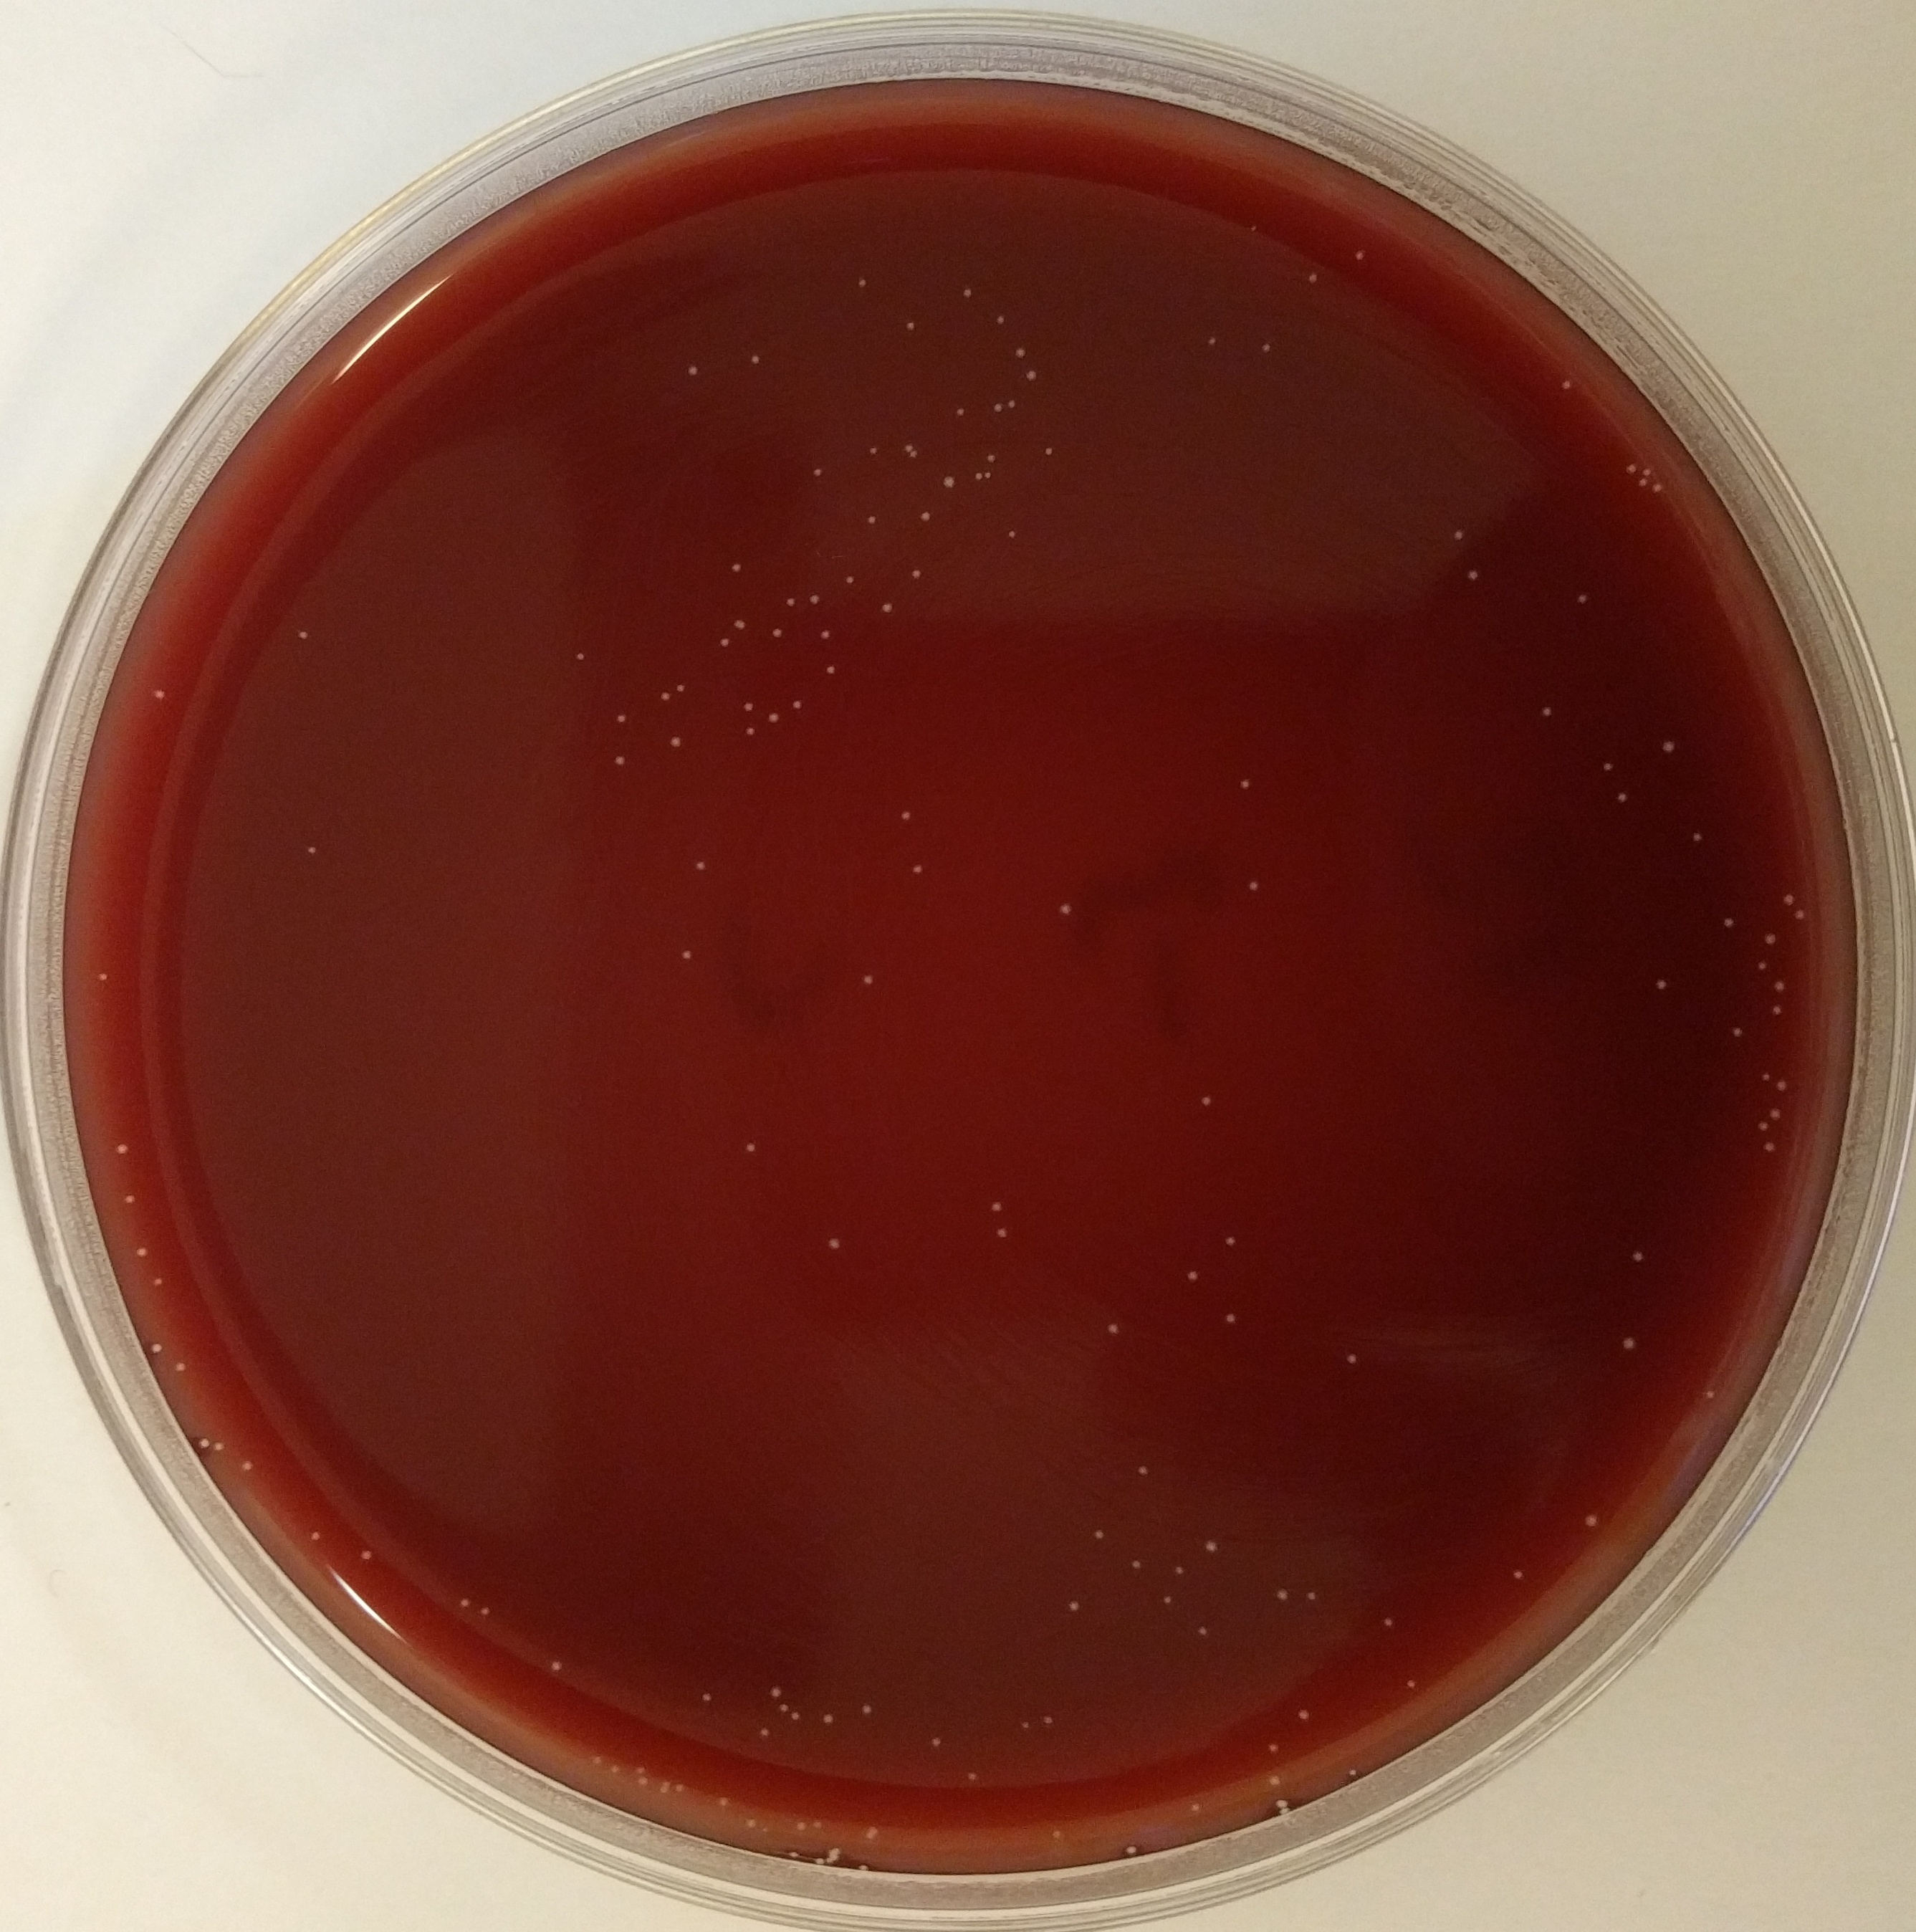sp09: (765, 709, 783, 726), (1021, 369, 1040, 384), (304, 842, 321, 858), (840, 572, 860, 586), (684, 361, 700, 377), (1305, 270, 1321, 286), (770, 626, 786, 642), (818, 628, 833, 644), (547, 1658, 563, 1674), (151, 688, 167, 704), (133, 1244, 149, 1260), (826, 1235, 842, 1251), (1774, 1077, 1790, 1093), (807, 591, 821, 609), (1762, 932, 1779, 946), (1700, 1388, 1718, 1402), (1123, 1843, 1140, 1857), (1772, 977, 1786, 995), (728, 562, 744, 576), (881, 600, 895, 616), (668, 735, 684, 749), (742, 725, 758, 739), (898, 807, 912, 823), (1791, 909, 1807, 923), (1621, 1337, 1637, 1351), (1202, 1539, 1218, 1553), (860, 1702, 876, 1716), (360, 1548, 375, 1562), (149, 1274, 163, 1290), (309, 1528, 323, 1544), (691, 858, 707, 872), (1058, 904, 1074, 918), (993, 312, 1009, 326), (93, 970, 111, 983), (114, 1142, 132, 1155), (865, 1827, 879, 1841), (633, 1764, 647, 1778), (591, 1751, 605, 1765), (854, 275, 869, 290), (1040, 446, 1055, 460), (942, 476, 956, 490), (911, 569, 925, 583), (1558, 379, 1572, 393), (1541, 705, 1555, 719), (1239, 777, 1253, 791), (823, 663, 837, 677), (756, 1725, 770, 1739), (123, 1191, 137, 1206), (744, 1141, 758, 1155), (990, 1200, 1004, 1214), (679, 948, 693, 962), (811, 465, 823, 481), (1467, 569, 1483, 581), (676, 681, 688, 697), (656, 691, 672, 704), (614, 712, 630, 725), (1583, 1514, 1598, 1527), (149, 1341, 161, 1356), (993, 1228, 1009, 1241), (1105, 1323, 1121, 1335), (1246, 879, 1262, 891), (860, 974, 876, 986), (1276, 1807, 1293, 1818), (1649, 481, 1663, 493), (744, 1818, 758, 1830), (635, 1776, 649, 1788), (1204, 335, 1218, 347), (1353, 247, 1365, 261), (1012, 346, 1026, 358), (867, 444, 879, 458), (865, 514, 879, 526), (1451, 528, 1465, 540), (1576, 591, 1590, 604), (784, 595, 798, 607), (735, 618, 747, 632), (612, 755, 626, 767), (742, 700, 754, 714), (791, 698, 804, 712), (1732, 1025, 1744, 1039), (1662, 741, 1676, 753), (1511, 1569, 1525, 1581), (1297, 1707, 1311, 1720), (1267, 1742, 1281, 1755), (1174, 1563, 1186, 1578), (1067, 1600, 1081, 1613), (821, 1713, 835, 1725), (700, 1690, 712, 1704), (460, 1597, 474, 1609), (240, 1462, 254, 1474), (198, 1435, 211, 1449), (1186, 1269, 1198, 1283), (911, 863, 923, 877), (718, 635, 730, 649), (1270, 1799, 1290, 1807), (1256, 342, 1272, 353), (1655, 979, 1670, 990), (1598, 762, 1614, 772), (769, 1686, 784, 1697), (477, 1606, 493, 1616), (172, 1362, 188, 1372), (1642, 465, 1655, 477), (812, 1820, 825, 1832), (718, 1795, 730, 1807), (609, 1764, 621, 1776), (962, 286, 974, 298), (749, 353, 761, 365), (1248, 223, 1260, 235), (1625, 462, 1637, 474), (1691, 832, 1704, 844), (1383, 1616, 1395, 1628), (1305, 1590, 1318, 1602), (1277, 1590, 1290, 1602), (1137, 1465, 1149, 1478), (1190, 1802, 1202, 1814), (790, 1711, 802, 1723), (1225, 1235, 1237, 1248), (1200, 1095, 1212, 1107), (776, 1704, 788, 1716), (991, 402, 1004, 414), (1769, 1107, 1781, 1120), (1269, 1776, 1283, 1786), (795, 1820, 805, 1834), (674, 1781, 684, 1795), (661, 1779, 672, 1793), (953, 407, 967, 418), (1756, 1121, 1770, 1132), (1758, 1072, 1772, 1083), (1614, 791, 1628, 802), (1040, 1714, 1055, 1725), (930, 1737, 944, 1748), (1223, 1313, 1237, 1323), (214, 1439, 223, 1455), (905, 321, 918, 332), (1007, 398, 1018, 411), (984, 453, 997, 463), (919, 511, 932, 521), (574, 651, 586, 662), (297, 630, 309, 640), (1765, 1142, 1777, 1153), (1721, 916, 1734, 927), (1758, 960, 1769, 972), (1772, 1004, 1783, 1016), (1632, 1251, 1644, 1262), (1197, 1625, 1207, 1637), (965, 1771, 976, 1783), (1346, 1353, 1356, 1365), (909, 451, 921, 462), (972, 470, 983, 483), (1637, 477, 1648, 490), (1404, 1679, 1418, 1688), (1053, 1830, 1063, 1841), (1132, 1560, 1142, 1571), (1093, 1528, 1104, 1539), (1021, 1720, 1032, 1730), (904, 442, 914, 453), (983, 470, 993, 481), (1007, 528, 1016, 540), (1783, 895, 1795, 904), (1346, 1767, 1358, 1776), (1163, 1593, 1172, 1604)
